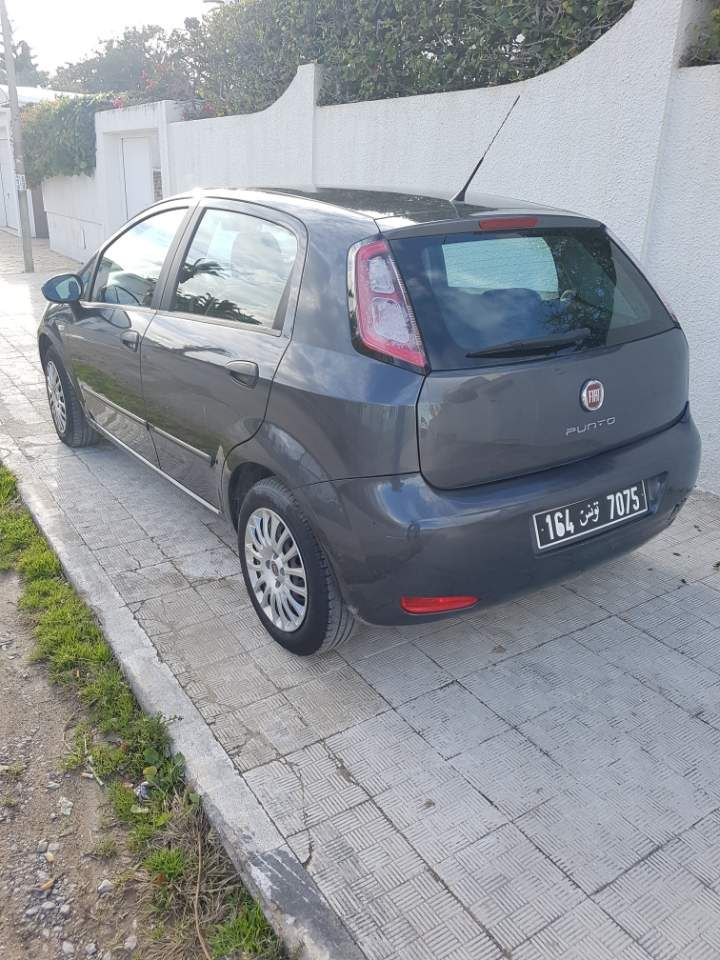LP: (530, 480, 653, 544)
